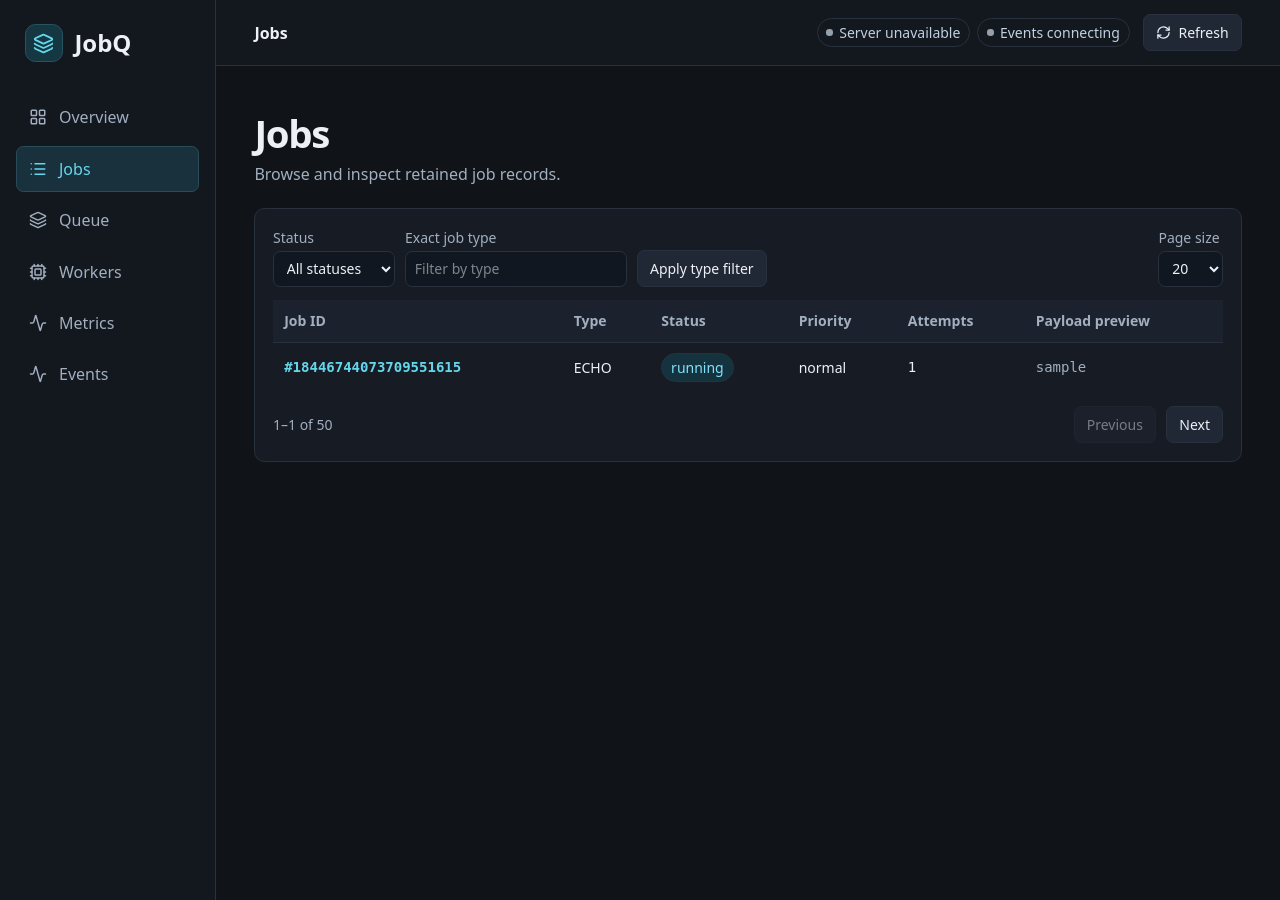
Test case: filters, pages, and opens details with the exact job ID
Select "RUNNING" in the dropdown labelled "Status" at (334, 269), box x1=273 y1=251 x2=395 y2=287
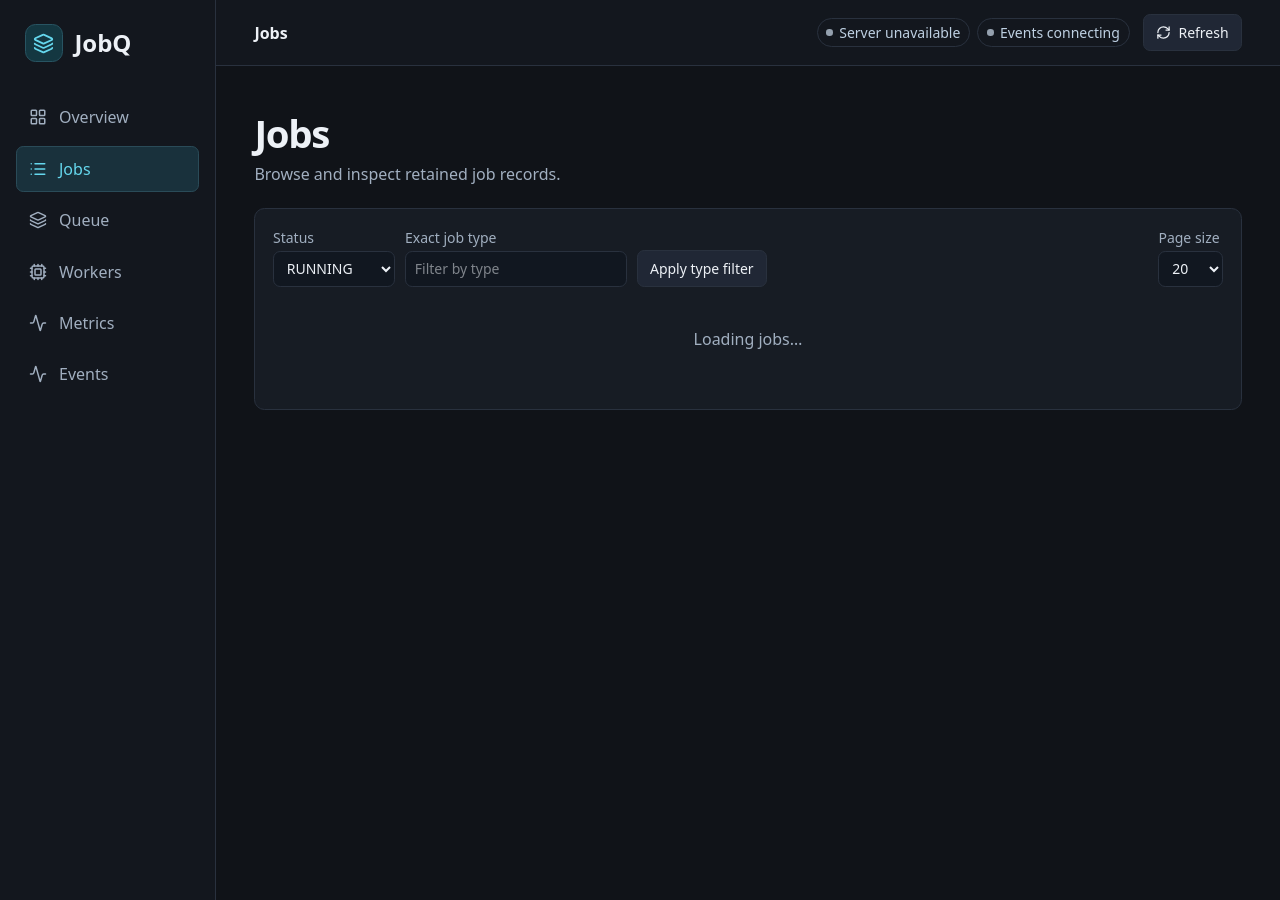
Type "ECHO" into the field labelled "Exact job type" at (516, 269), box x1=405 y1=251 x2=627 y2=287
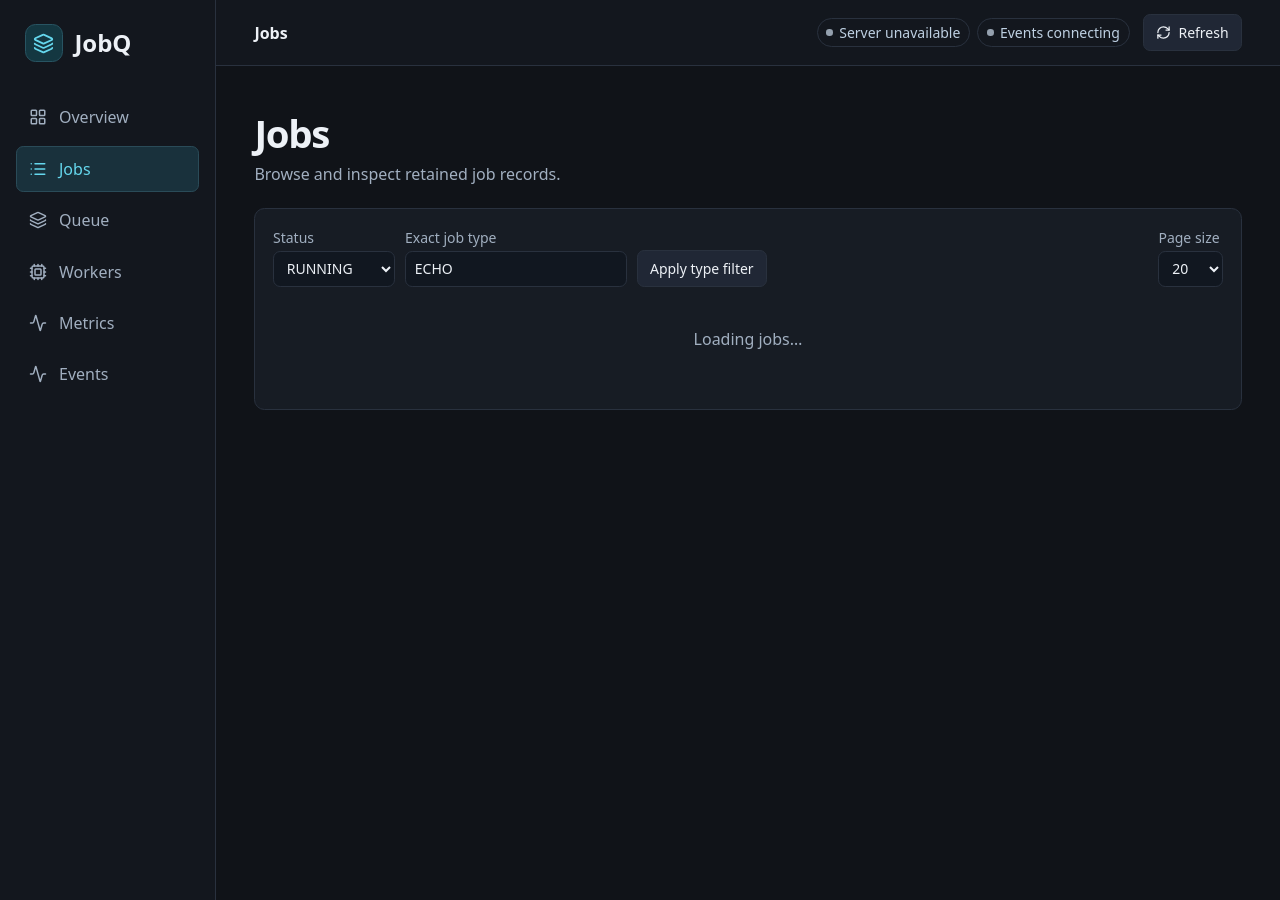
Click the button "Apply type filter" at (702, 268), box x1=637 y1=250 x2=767 y2=287
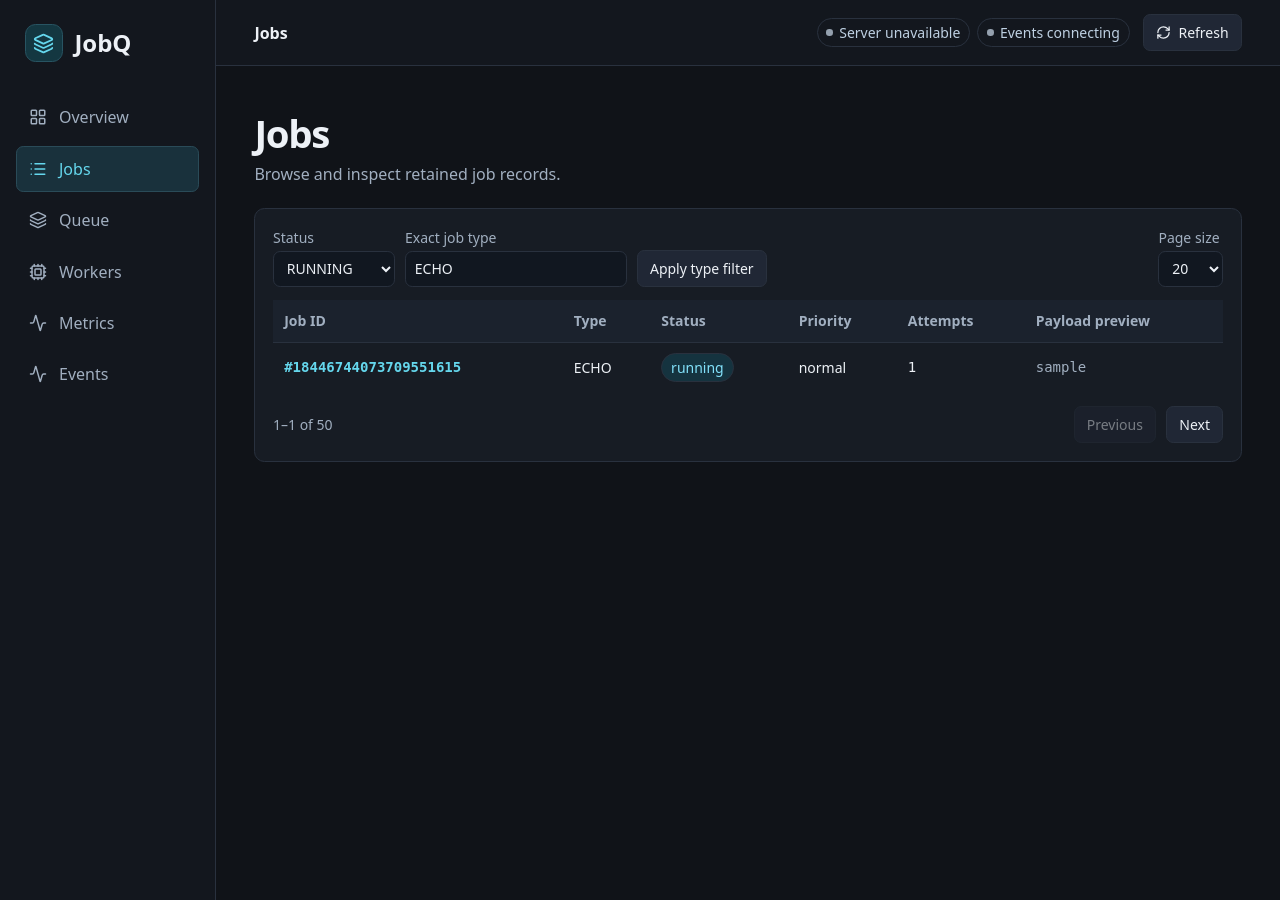
Click the button "Next" at (1195, 424), box x1=1166 y1=406 x2=1223 y2=443
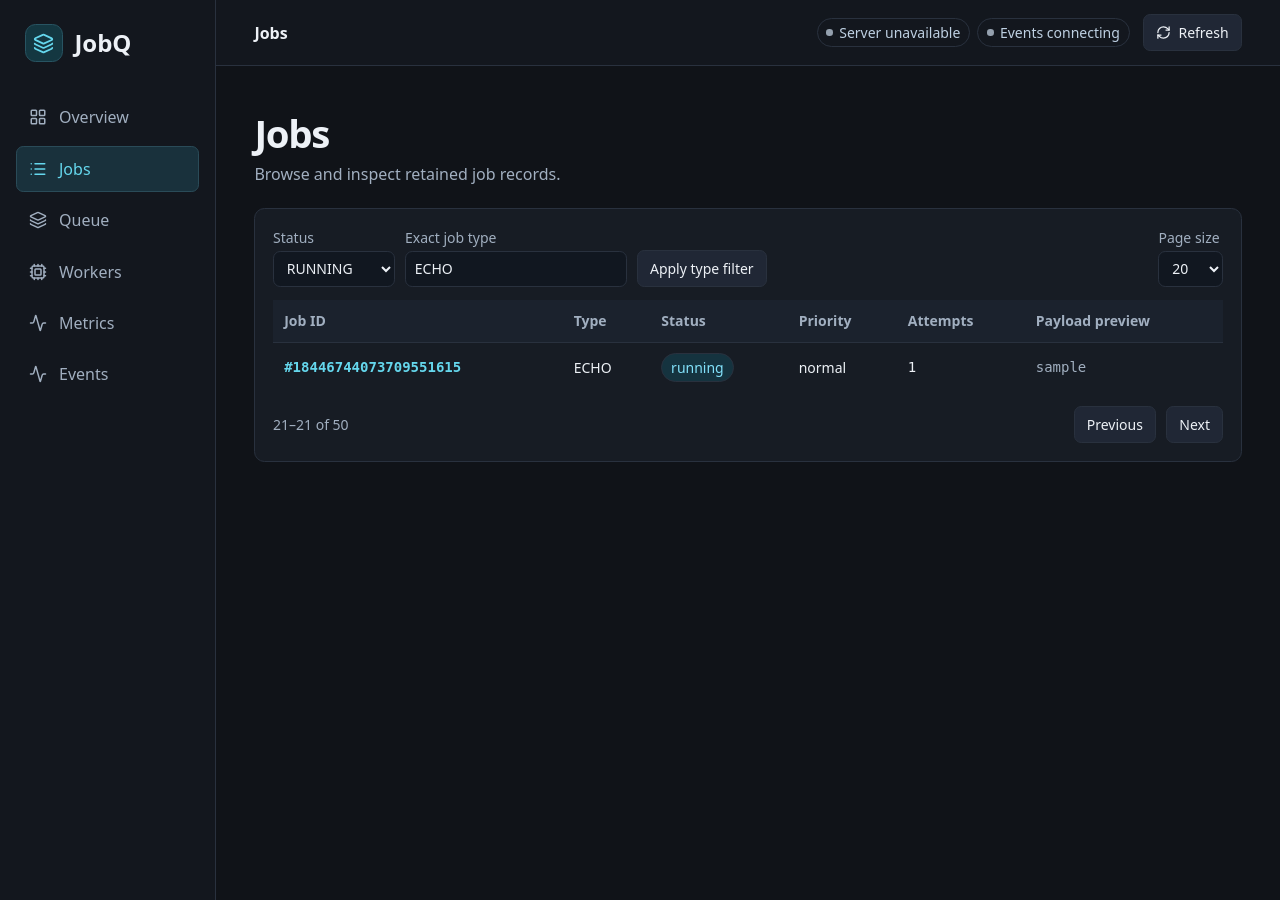
Click the link "#18446744073709551615" at (288, 367), box x1=284 y1=359 x2=461 y2=375
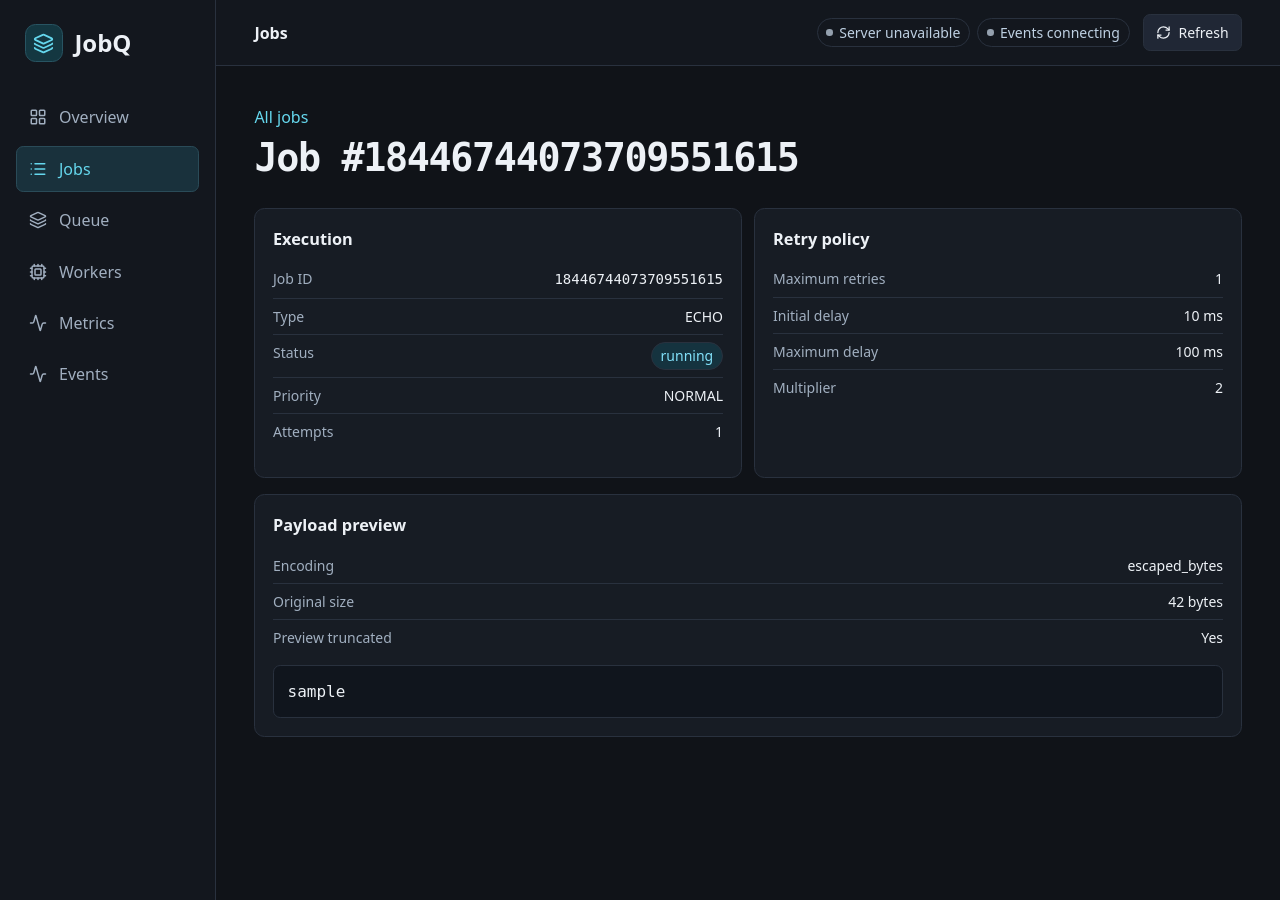
Now the text "42 bytes" is shown, box x1=1168 y1=591 x2=1223 y2=612
Now the text "escaped_bytes" is shown, box x1=1127 y1=555 x2=1223 y2=576
